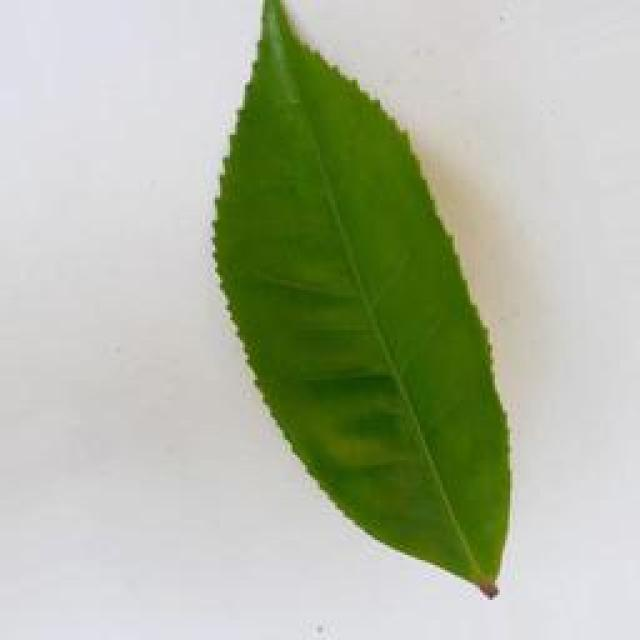Healthy: (199, 0, 528, 609)
